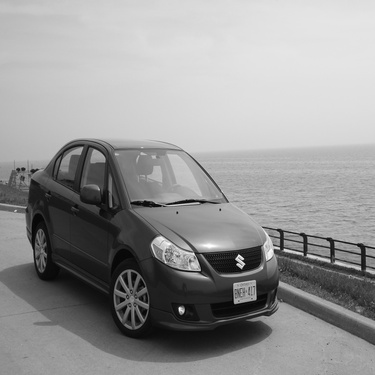car: (14, 129, 283, 340)
